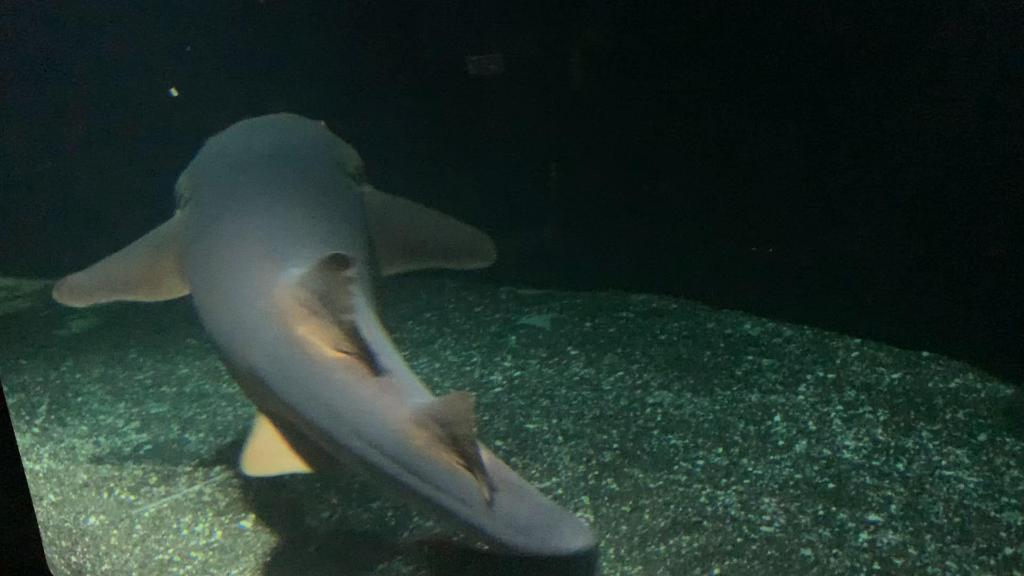shark: (50, 108, 606, 564)
